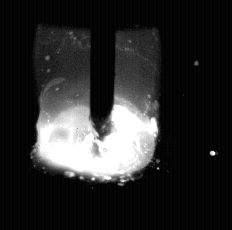arame: (91, 0, 115, 140)
poca: (35, 0, 155, 230)
